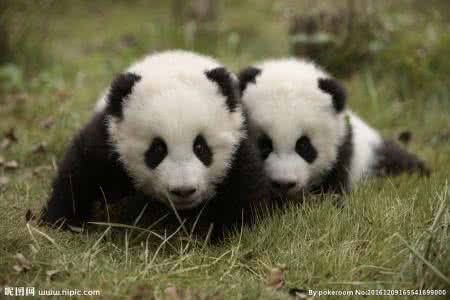panda: (39, 17, 246, 241), (247, 38, 431, 198)
